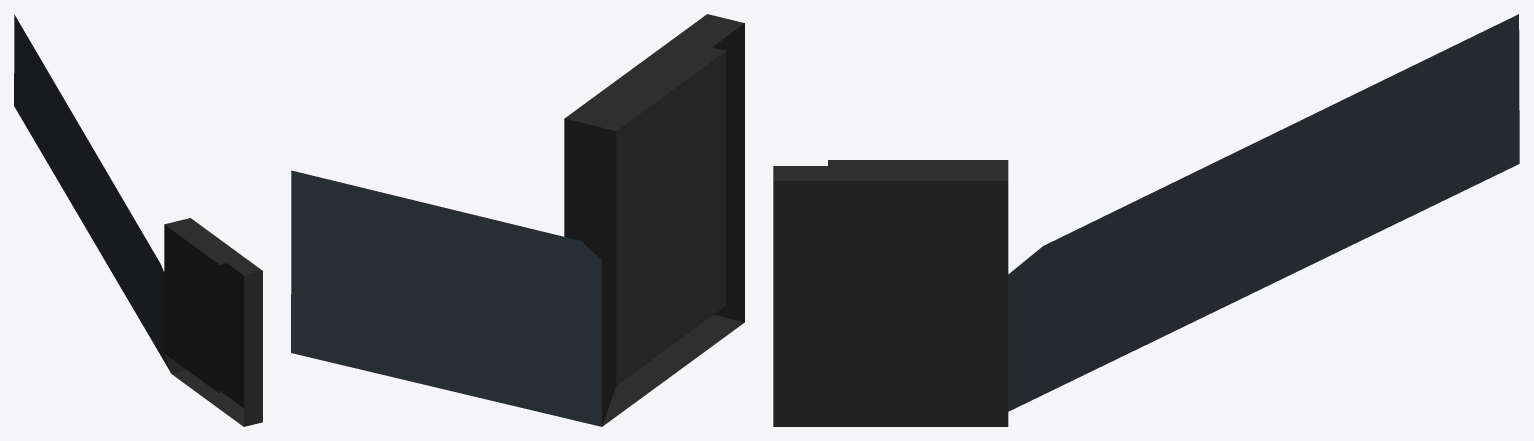
The model's file is SM_Bld_House_Roof_Angled_Gutter_04.fbx.
The picture shows the model from 3 angles, left to right: view 1: azimuth 30°, elevation 25°; view 2: azimuth 150°, elevation 25°; view 3: azimuth 270°, elevation 25°; orthographic projection. The views are drawn at different scales.
Visible parts, largest first — view 1: SM_Bld_House_Roof_Angled_Gutter_04; view 2: SM_Bld_House_Roof_Angled_Gutter_04; view 3: SM_Bld_House_Roof_Angled_Gutter_04.
Part boxes in pixels (bbox=[...]): SM_Bld_House_Roof_Angled_Gutter_04: bbox=[14, 14, 262, 426]; SM_Bld_House_Roof_Angled_Gutter_04: bbox=[291, 14, 744, 426]; SM_Bld_House_Roof_Angled_Gutter_04: bbox=[773, 14, 1519, 426].
Bounding box in the file's own units: 3.07 × 27.27 × 46.37.
